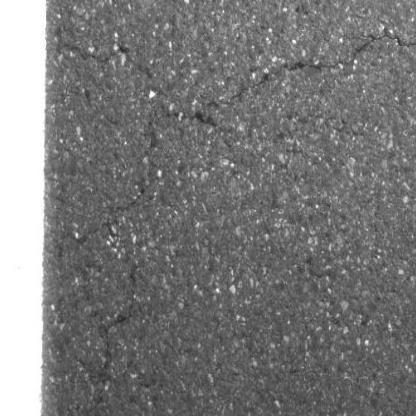Cracks: (191, 30, 416, 132), (61, 41, 157, 84), (102, 267, 140, 352), (115, 185, 150, 215)
